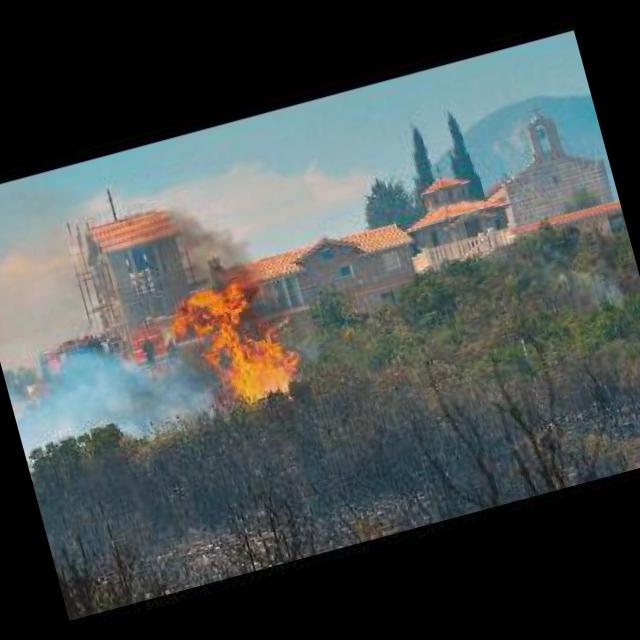fire: (168, 268, 313, 416), (26, 376, 40, 392)
smoke: (2, 320, 210, 463), (142, 186, 262, 332)
